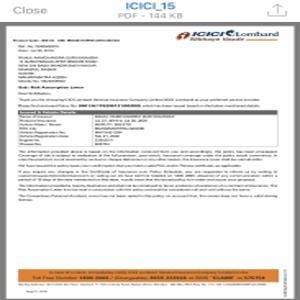image: (172, 28, 282, 44)
table: (18, 110, 281, 147)
text: (11, 37, 264, 109), (19, 146, 282, 199)
